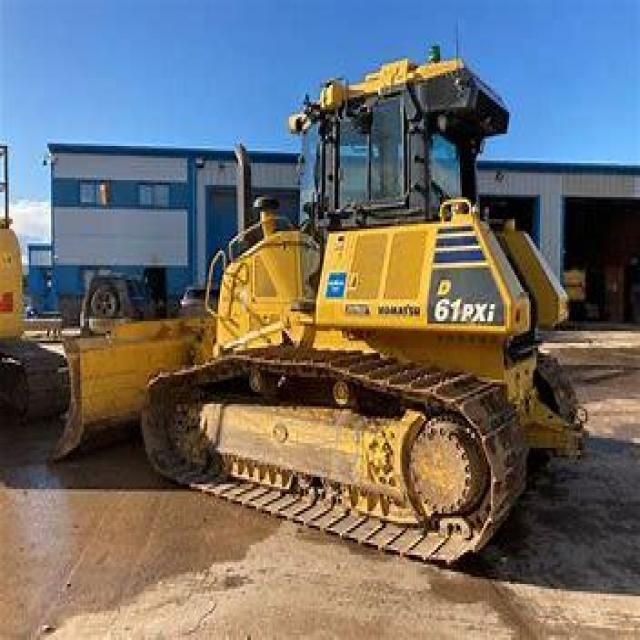buldozerpayloadergrader: (42, 42, 596, 574)
